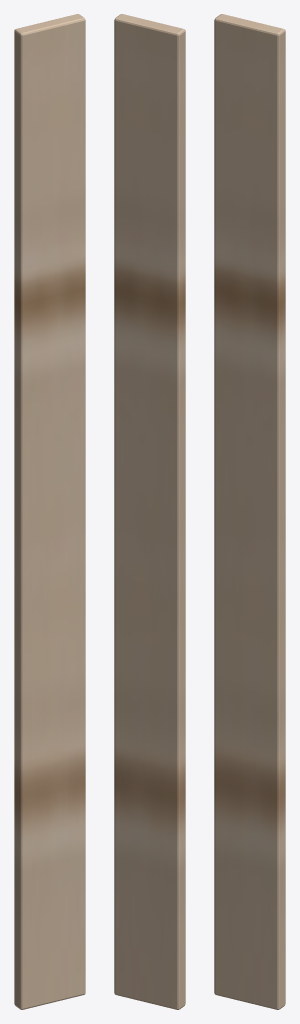
File: skirt-slat-1.0.0.glb
The picture shows the model from 3 angles, left to right: view 1: azimuth 30°, elevation 25°; view 2: azimuth 150°, elevation 25°; view 3: azimuth 330°, elevation 25°; orthographic projection.
Parts seen in each view (by area): view 1: skirt; view 2: skirt; view 3: skirt.
Boxes of the visible parts, x1,y1,x2,y2 form: skirt: (14,14,85,1009); skirt: (114,14,185,1009); skirt: (214,14,285,1009).
Bounding box in the file's own units: 0.07 × 1 × 0.014.
Materials: 1 (1 with a texture image).
